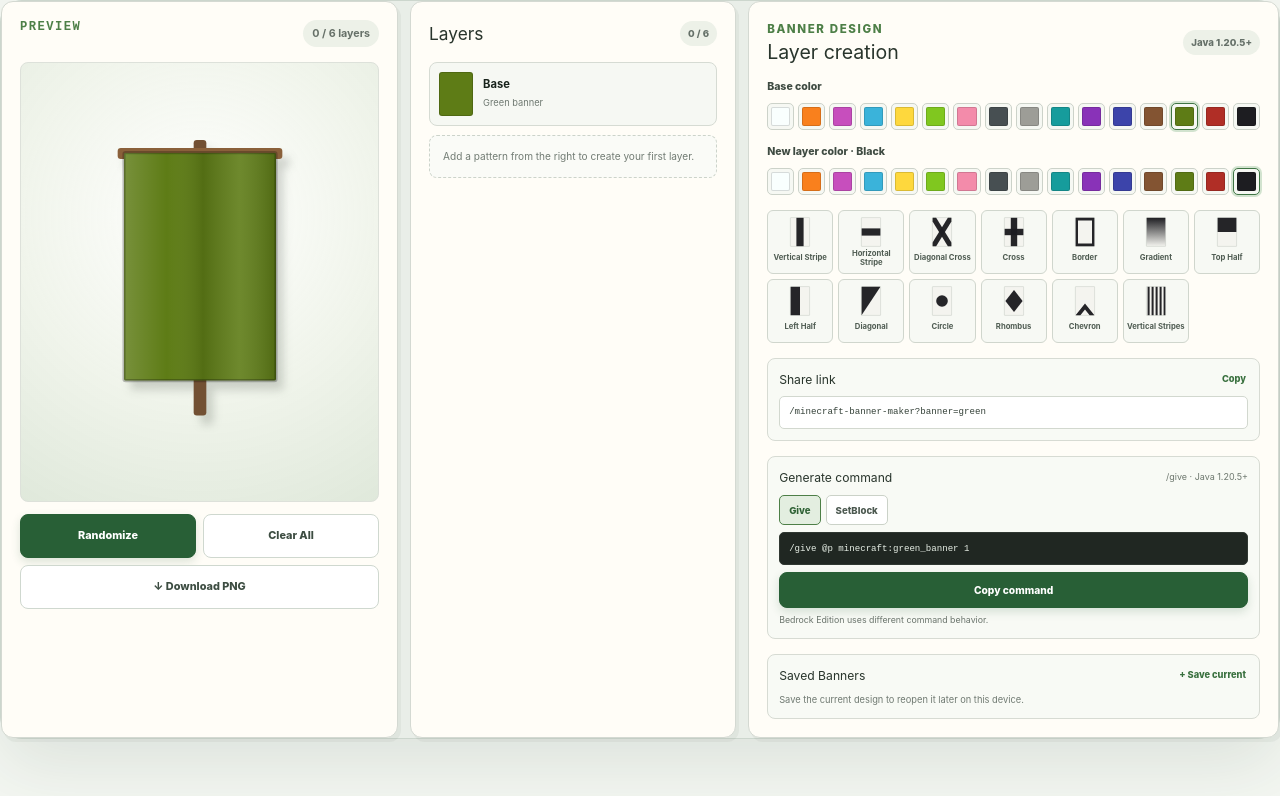
keeps the banner editor usable when storage is blocked and reports save failure
Step 1. Click the button with aria-label "Add Circle layer" → (942, 311), box top-left (909, 279), bottom-right (976, 343)
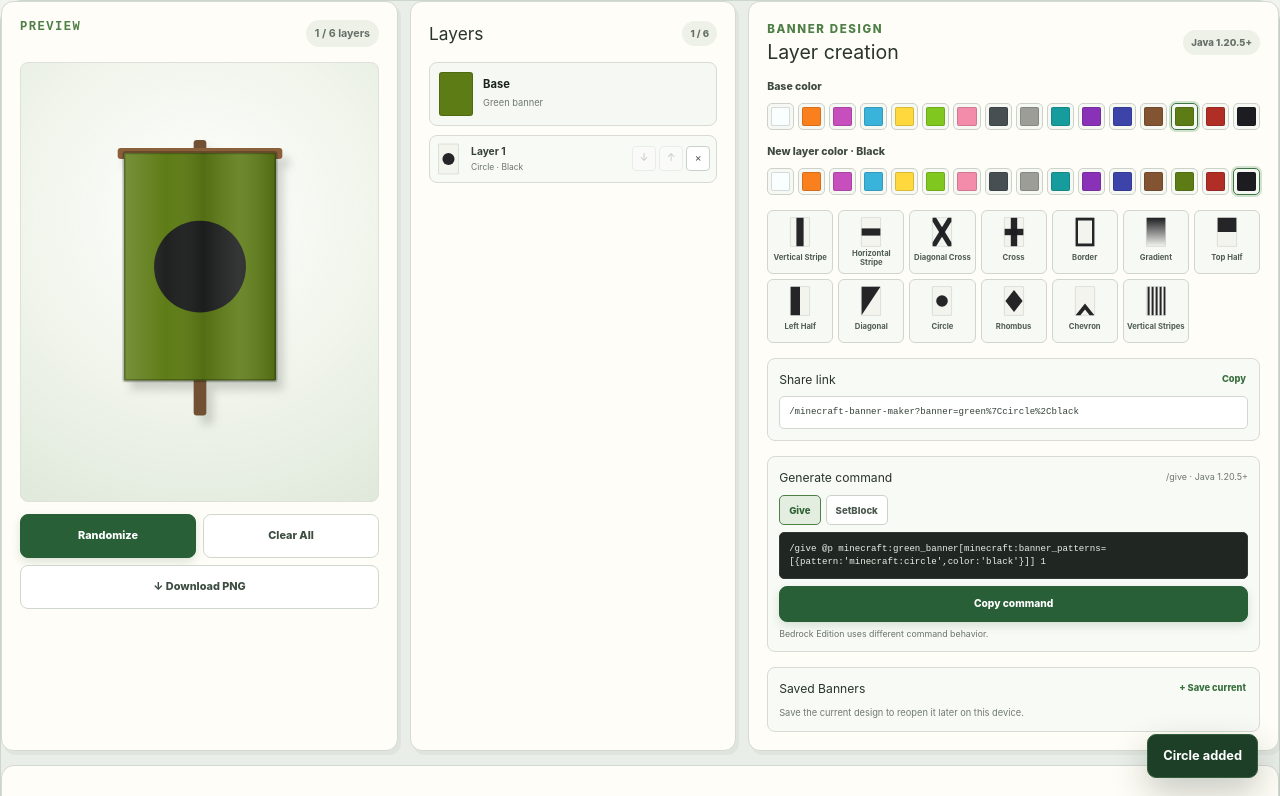
Step 2. Click the button "+ Save current" → (1213, 689), box top-left (1177, 679), bottom-right (1248, 698)
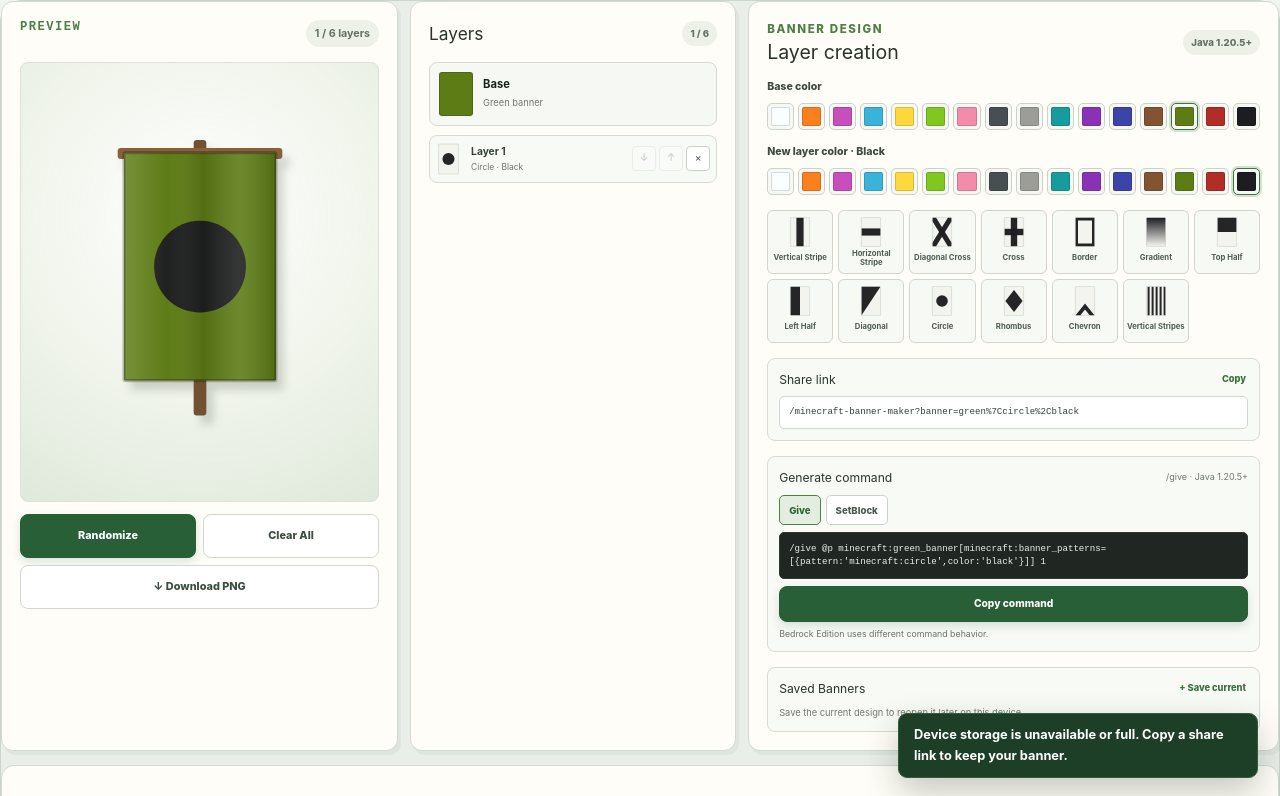
Now the text "1 / 6 layers" is shown, box top-left (306, 20), bottom-right (379, 47)
Now the message shows "Device storage is unavailable or full", box top-left (914, 727), bottom-right (1224, 763)
